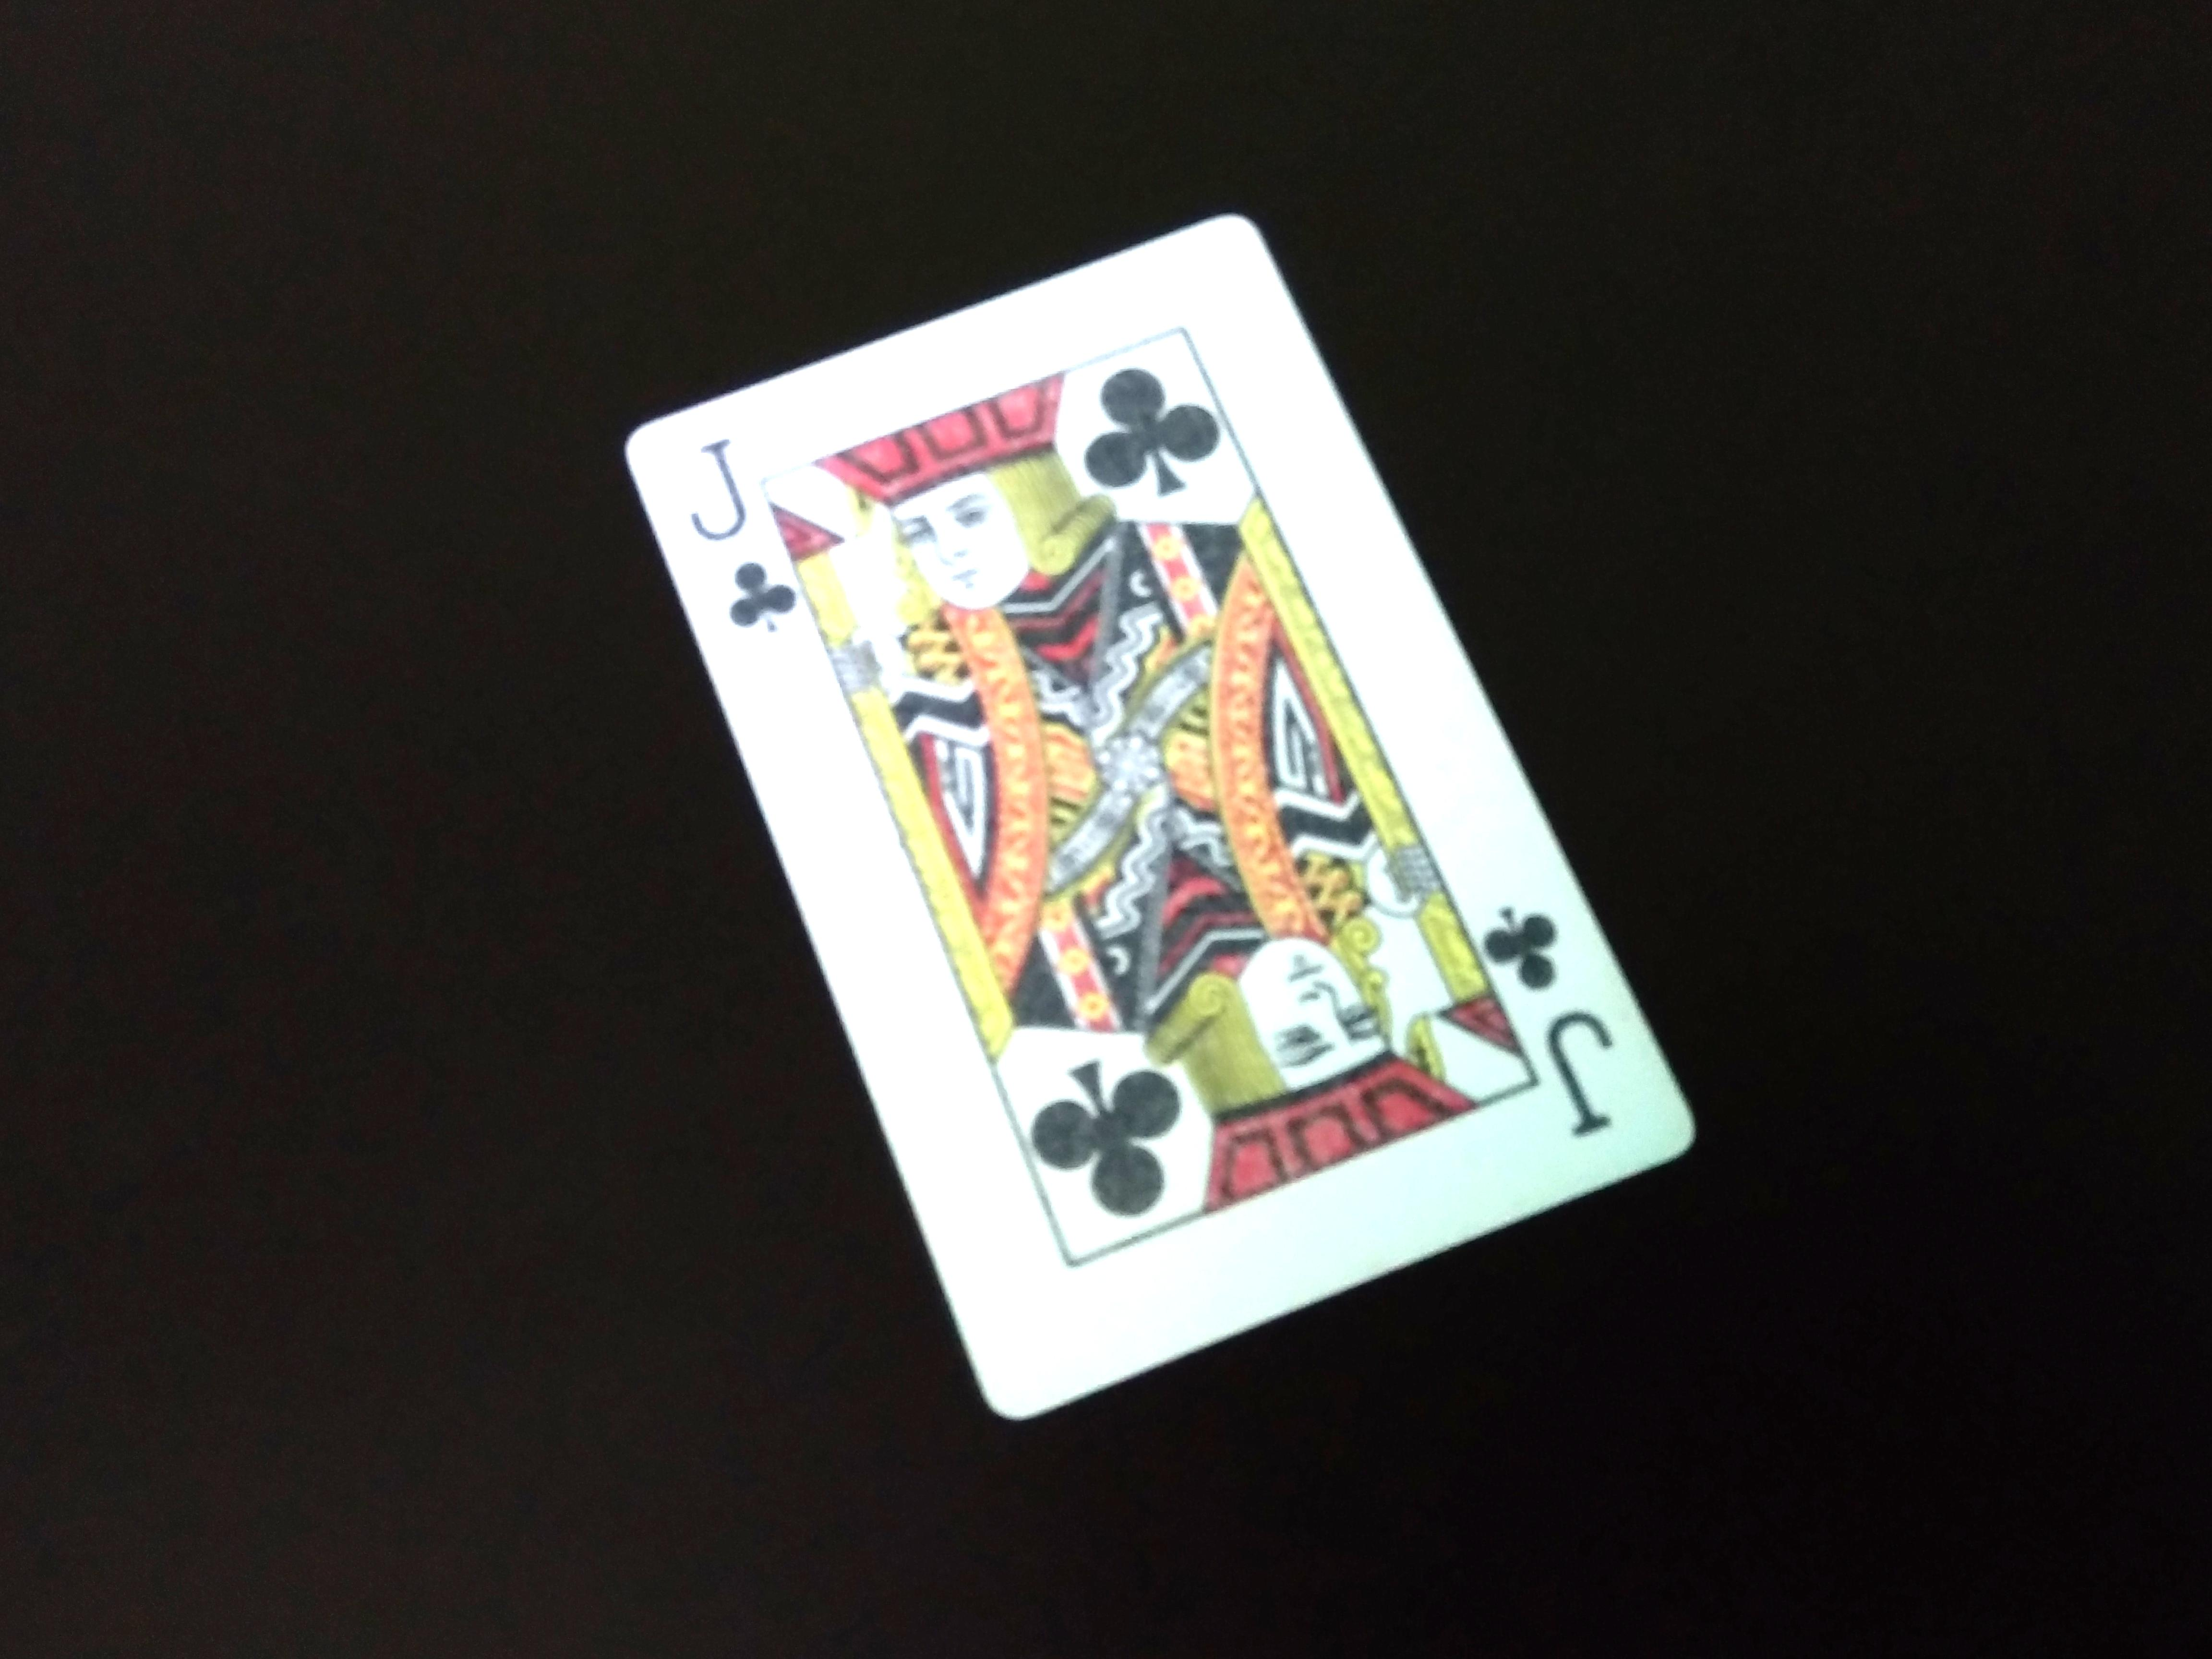JC: (686, 420, 787, 673)
